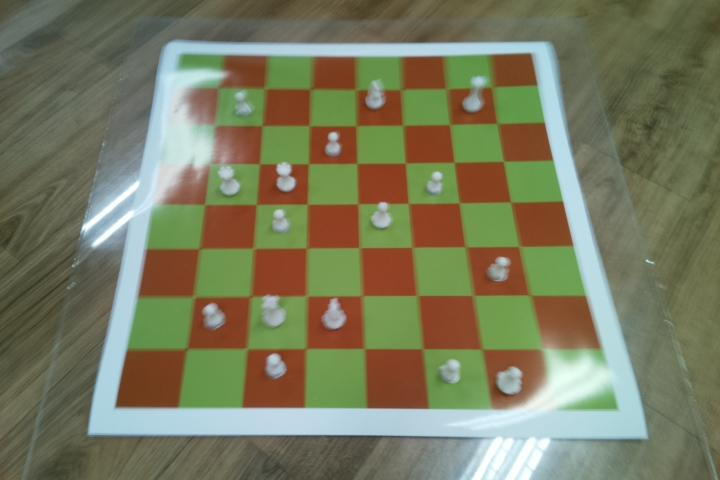chessboard-detect: (114, 52, 619, 411)
